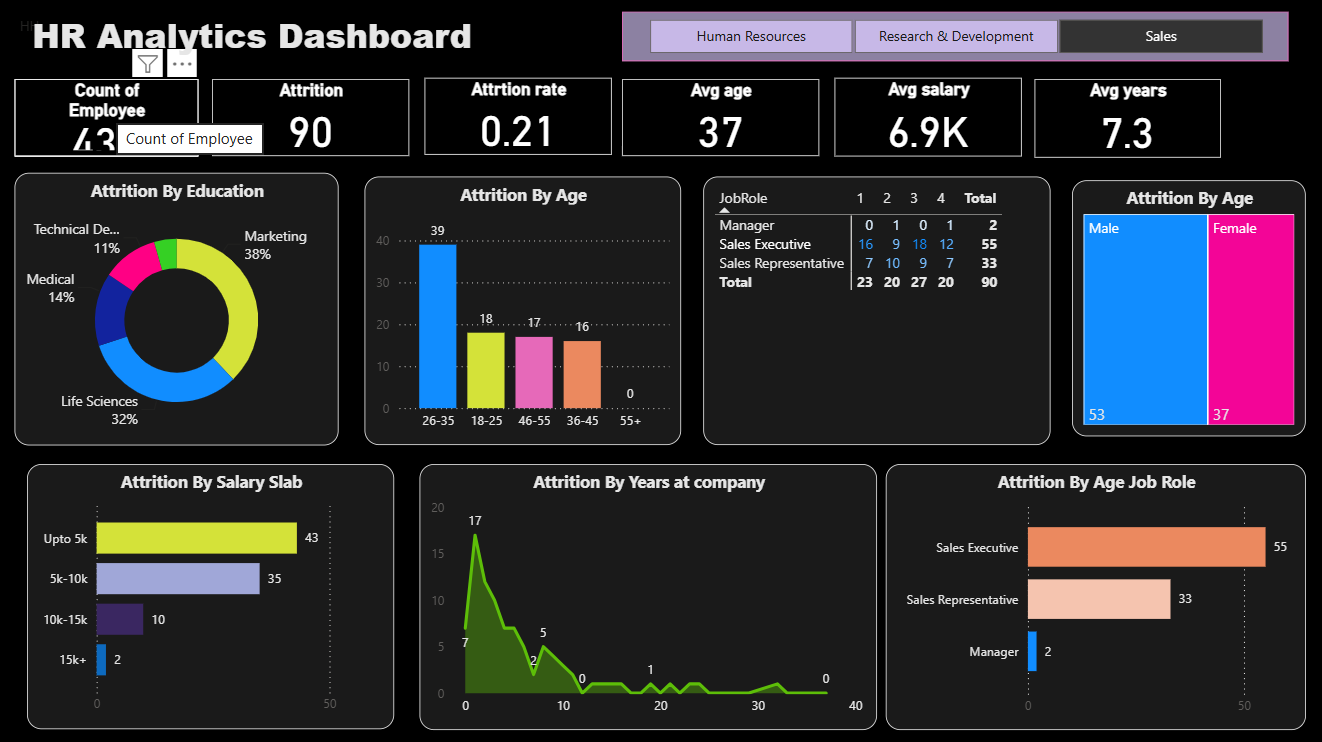

This screenshot's page, from the dashboard's own definition file:
{"tool":"powerbi","page":{"name":"Page 1","canvas":[1280,720],"ordinal":0},"visuals":[{"type":"card","title":"Count of Employee","fields":{"Values":["CountNonNull(HR_Analytics.EmpID)"]},"box":[16.9,77.2,177.3,74.8],"z":0},{"type":"card","title":"Attrition","fields":{"Values":["Sum(HR_Analytics.AttritionCount)"]},"box":[207.5,77.2,190.6,74.8],"z":1000},{"type":"card","title":"Attrtion rate","fields":{"Values":["HR_Analytics.AttritionRate"]},"box":[412.6,76,181,74.8],"z":2000},{"type":"card","title":"Avg age","fields":{"Values":["Avg(HR_Analytics.Age)"]},"box":[603.2,77.2,190.6,74.8],"z":3000},{"type":"card","title":"Avg salary","fields":{"Values":["Avg(HR_Analytics.MonthlyIncome)"]},"box":[808.3,76,181,76],"z":4000},{"type":"card","title":"Avg years","fields":{"Values":["Avg(HR_Analytics.YearsAtCompany)"]},"box":[1001.3,77.2,179.8,76],"z":5000},{"type":"donutChart","title":"Attrition By Education","fields":{"Category":["HR_Analytics.EducationField"],"Y":["Sum(HR_Analytics.AttritionCount)"]},"box":[16.9,167.7,312.5,263],"z":6000},{"type":"columnChart","title":"Attrition By Age","fields":{"Category":["HR_Analytics.AgeGroup"],"Y":["Sum(HR_Analytics.AttritionCount)"]},"box":[354.7,171.3,305.2,259.4],"z":7000},{"type":"pivotTable","fields":{"Rows":["HR_Analytics.JobRole"],"Columns":["HR_Analytics.JobSatisfaction"],"Values":["Sum(HR_Analytics.AttritionCount)"]},"box":[681.6,171.3,335.4,259.4],"z":8000},{"type":"barChart","title":"Attrition By Salary Slab","fields":{"Category":["HR_Analytics.SalarySlab"],"Y":["Sum(HR_Analytics.AttritionCount)"]},"box":[29,448.8,354.7,255.8],"z":9000},{"type":"barChart","title":"Attrition By Age Job Role","fields":{"Category":["HR_Analytics.JobRole"],"Y":["Sum(HR_Analytics.AttritionCount)"]},"box":[857.8,448.8,405.4,257],"z":10000},{"type":"areaChart","title":"Attrition By Years at company","fields":{"Category":["HR_Analytics.YearsAtCompany"],"Y":["Sum(HR_Analytics.AttritionCount)"]},"box":[407.8,448.8,441.6,257],"z":11000},{"type":"treemap","title":"Attrition By Age","fields":{"Group":["HR_Analytics.Gender"],"Values":["Sum(HR_Analytics.AttritionCount)"]},"box":[1037.5,174.9,225.6,247.3],"z":12000},{"type":"slicer","fields":{"Values":["HR_Analytics.Department"]},"box":[603.2,12.1,643,48.3],"z":13000},{"type":"textbox","box":[16.9,12.1,395.7,48.3],"z":14000},{"type":"textbox","box":[29,7.2,501.9,57.9],"z":15000}]}

Visuals, with their boxes in screenshot pixels (x1, y1, x2, y2), scaled from the page's 1280x720 canvas onto the 1322x742 screenshot:
"Count of Employee" card: <bbox>17, 80, 201, 157</bbox>
"Attrition" card: <bbox>214, 80, 411, 157</bbox>
"Attrtion rate" card: <bbox>426, 78, 613, 155</bbox>
"Avg age" card: <bbox>623, 80, 820, 157</bbox>
"Avg salary" card: <bbox>835, 78, 1022, 157</bbox>
"Avg years" card: <bbox>1034, 80, 1220, 158</bbox>
"Attrition By Education" donutChart: <bbox>17, 173, 340, 444</bbox>
"Attrition By Age" columnChart: <bbox>366, 177, 682, 444</bbox>
pivotTable - HR_Analytics.JobRole x HR_Analytics.JobSatisfaction: <bbox>704, 177, 1050, 444</bbox>
"Attrition By Salary Slab" barChart: <bbox>30, 463, 396, 726</bbox>
"Attrition By Age Job Role" barChart: <bbox>886, 463, 1305, 727</bbox>
"Attrition By Years at company" areaChart: <bbox>421, 463, 877, 727</bbox>
"Attrition By Age" treemap: <bbox>1072, 180, 1305, 435</bbox>
slicer - HR_Analytics.Department: <bbox>623, 12, 1287, 62</bbox>
textbox: <bbox>17, 12, 426, 62</bbox>
textbox: <bbox>30, 7, 548, 67</bbox>
